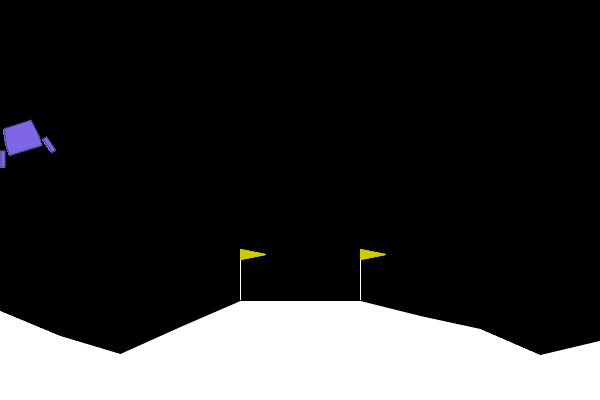lander: (0, 114, 57, 170)
